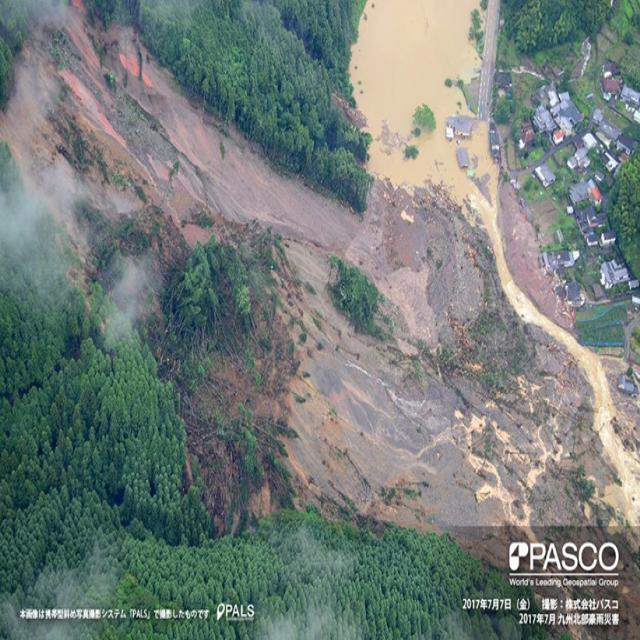Debris-flow: (0, 6, 628, 535), (0, 153, 50, 272)
